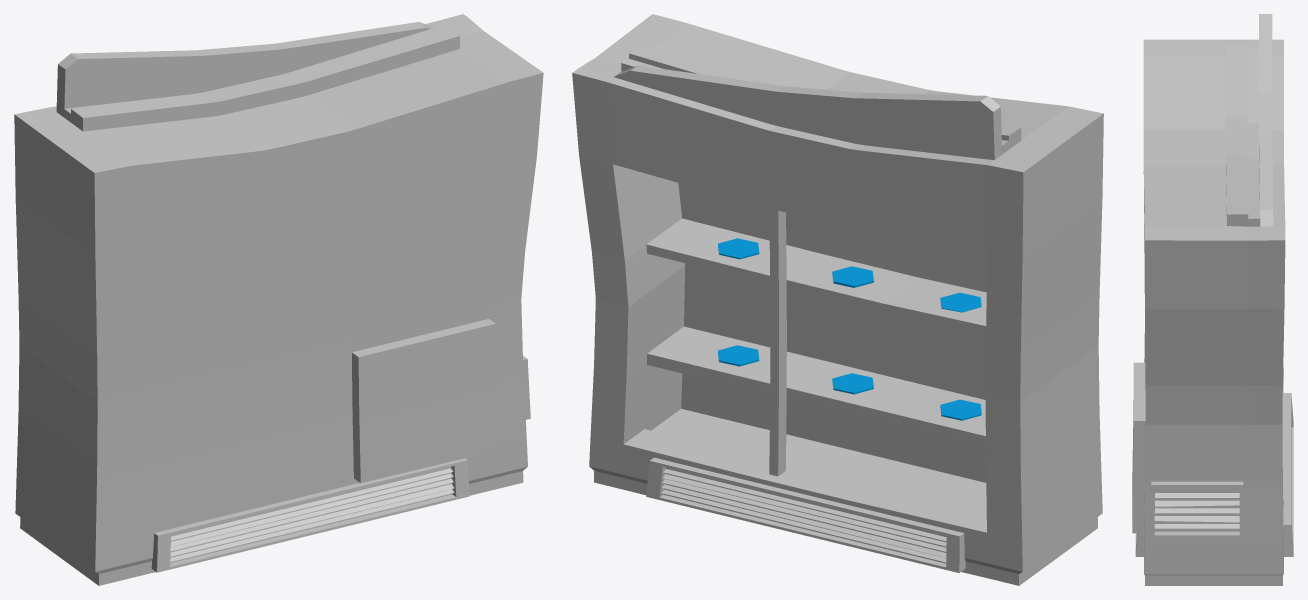
The model's file is Store_Cooler.fbx.
The picture shows the model from 3 angles, left to right: view 1: azimuth 30°, elevation 25°; view 2: azimuth 150°, elevation 25°; view 3: azimuth 270°, elevation 25°; orthographic projection. The views are drawn at different scales.
Visible parts, largest first — view 1: BaseCooler.002; view 2: BaseCooler.002; view 3: BaseCooler.002.
Boxes of the visible parts, <box> form: BaseCooler.002: <box>14,14,543,585</box>; BaseCooler.002: <box>572,14,1103,585</box>; BaseCooler.002: <box>1132,14,1293,585</box>.
Bounding box in the file's own units: 168 × 167 × 59.64.
